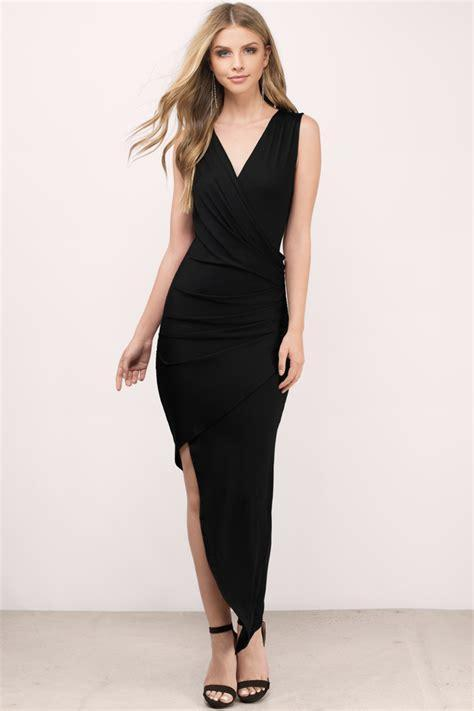dress: (155, 106, 303, 652)
